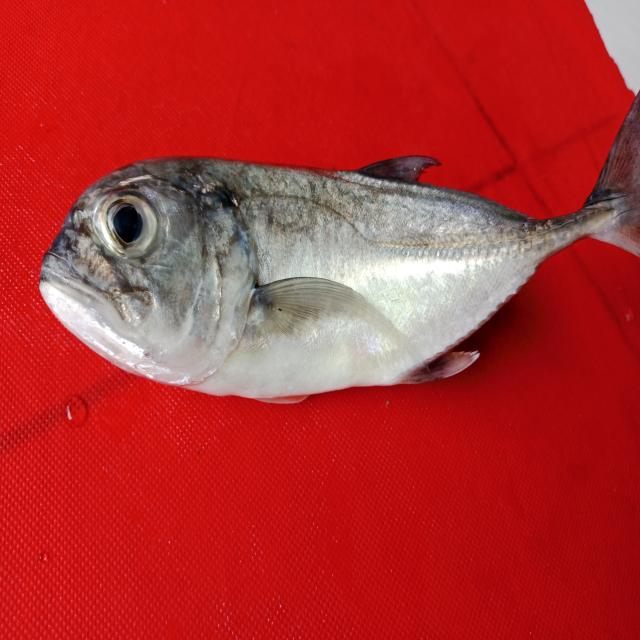ikan: (25, 76, 630, 417)
